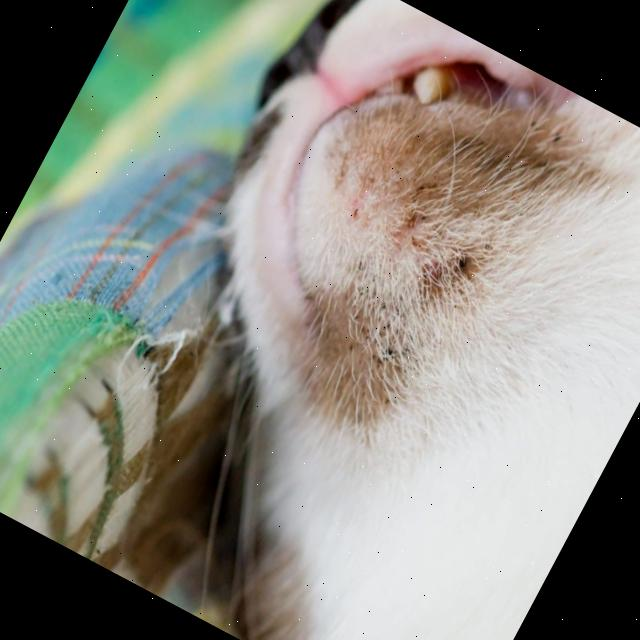cat-dermatitis: (314, 187, 504, 421)
